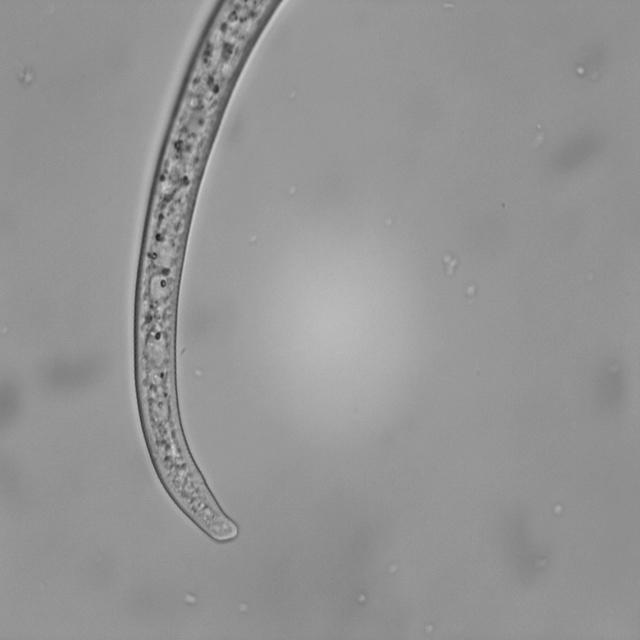Helicotylenchus: (112, 0, 305, 548)
